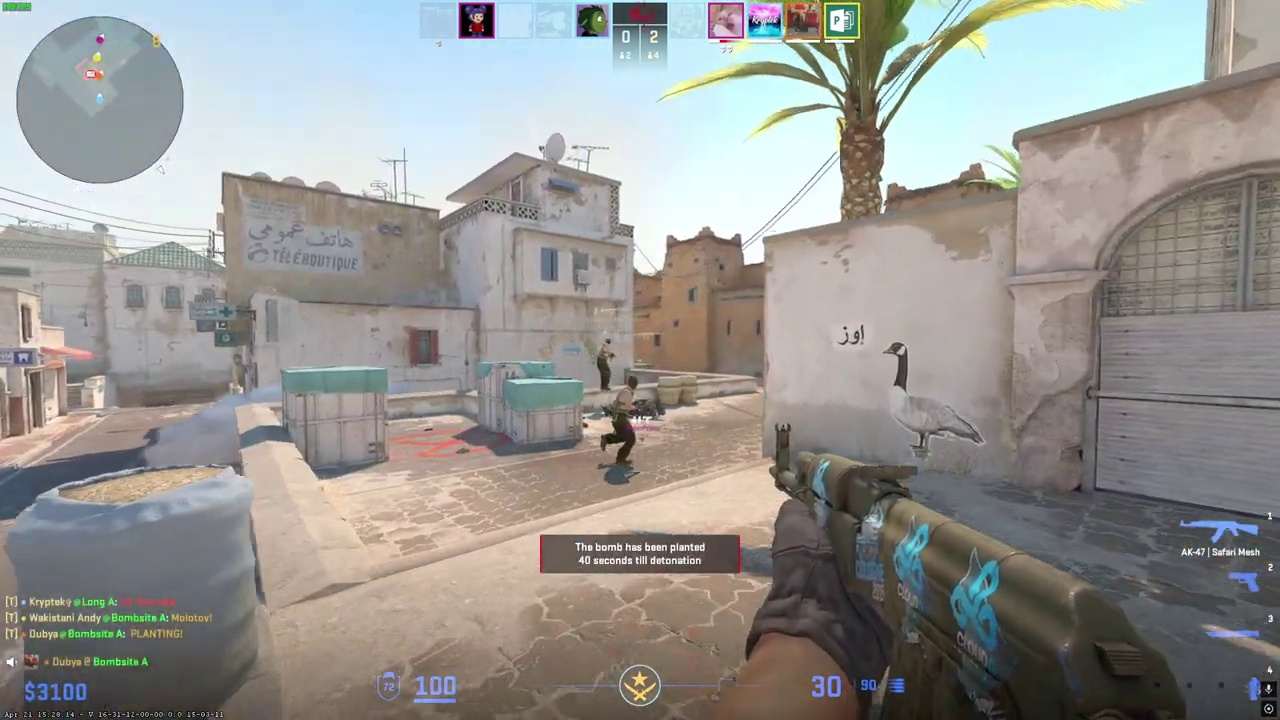Terrorist: (600, 376, 646, 466), (597, 338, 615, 390)
